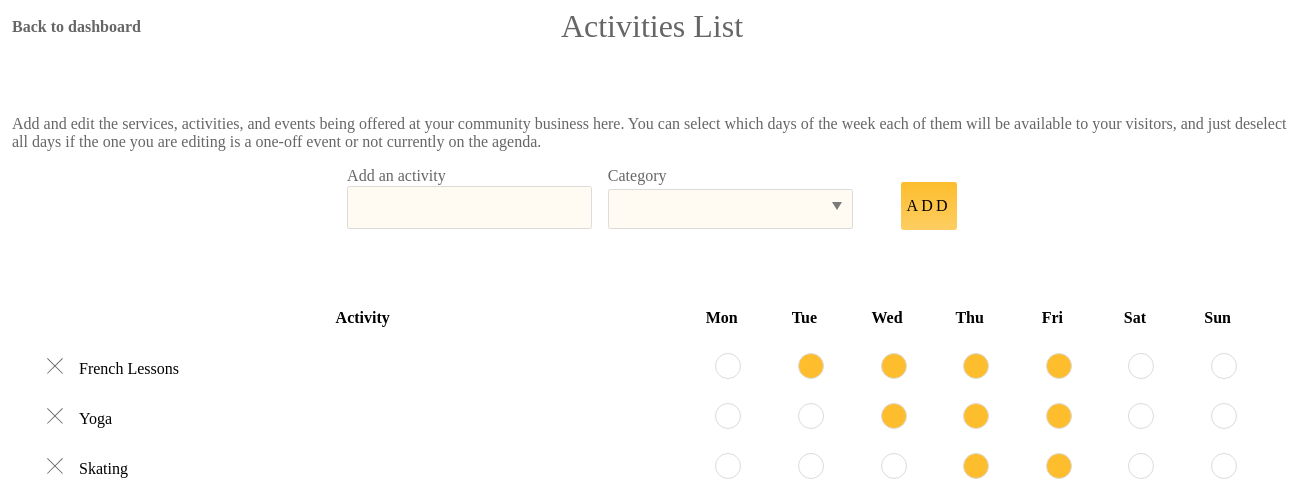
Test case: Activities Component › update :: correct response updates specified row
What coordinates should you click on to do the following:
click the checkbox with alt text "French Lessons monday update button"
I would click on:
 (728, 374)
Its box is [715,365,741,382].
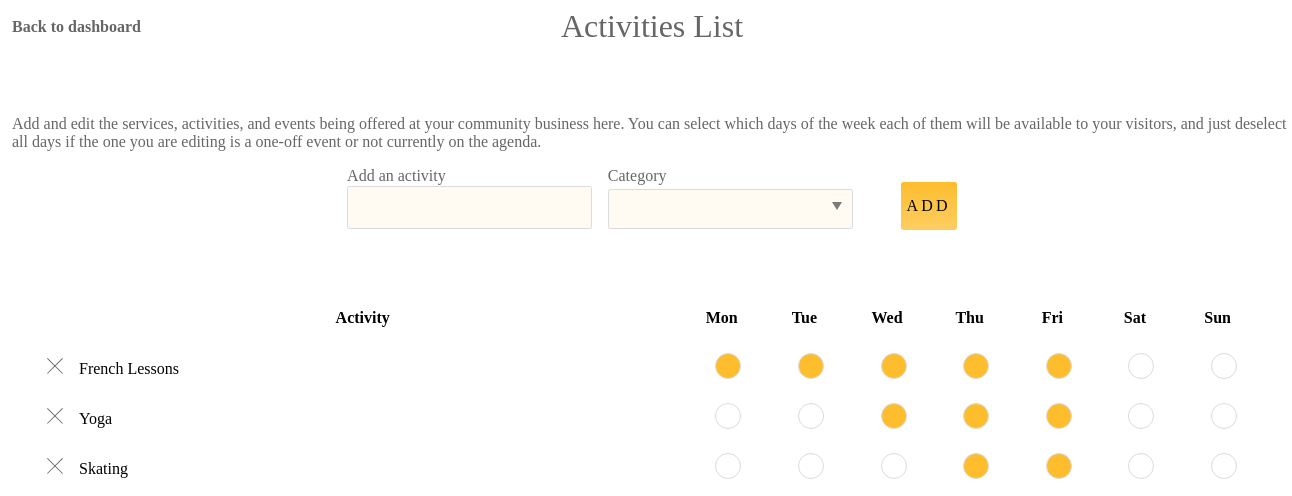
Expected: the checkbox with alt text "French Lessons monday update button" is checked, [715,365,741,382]
